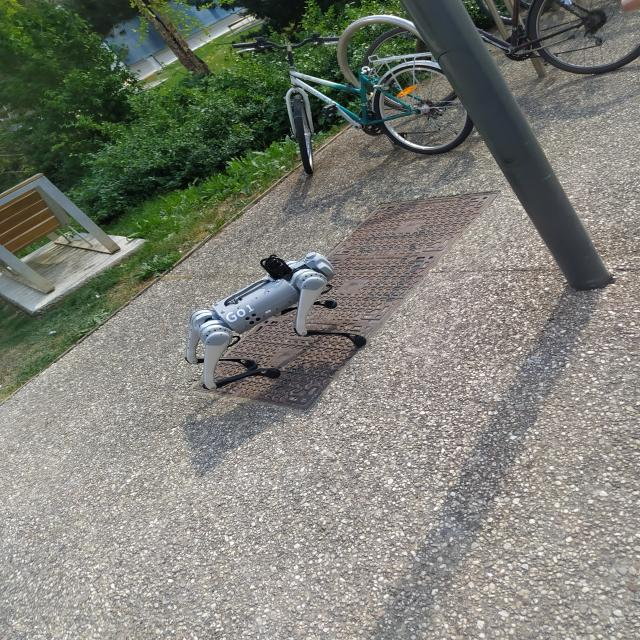unitree-go1-robot: (165, 239, 386, 418)
